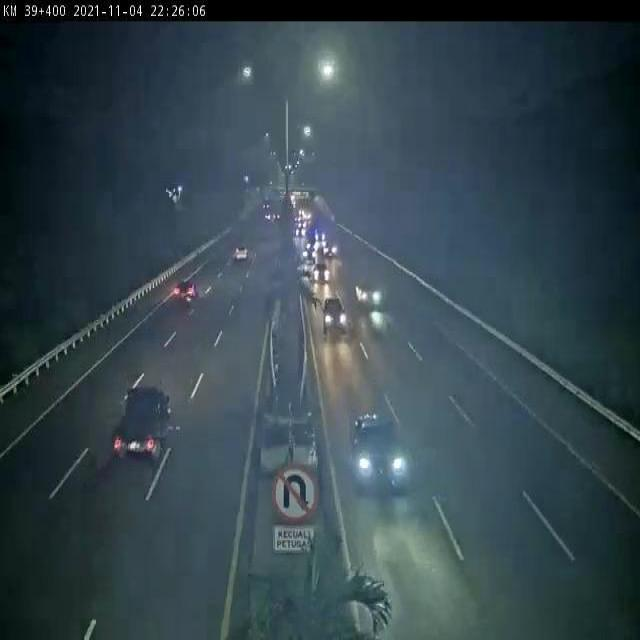car: (348, 406, 416, 506), (168, 272, 211, 313), (323, 294, 349, 350), (357, 280, 389, 313), (312, 261, 334, 287), (235, 240, 251, 269)
truck-s-: (110, 380, 168, 460)
